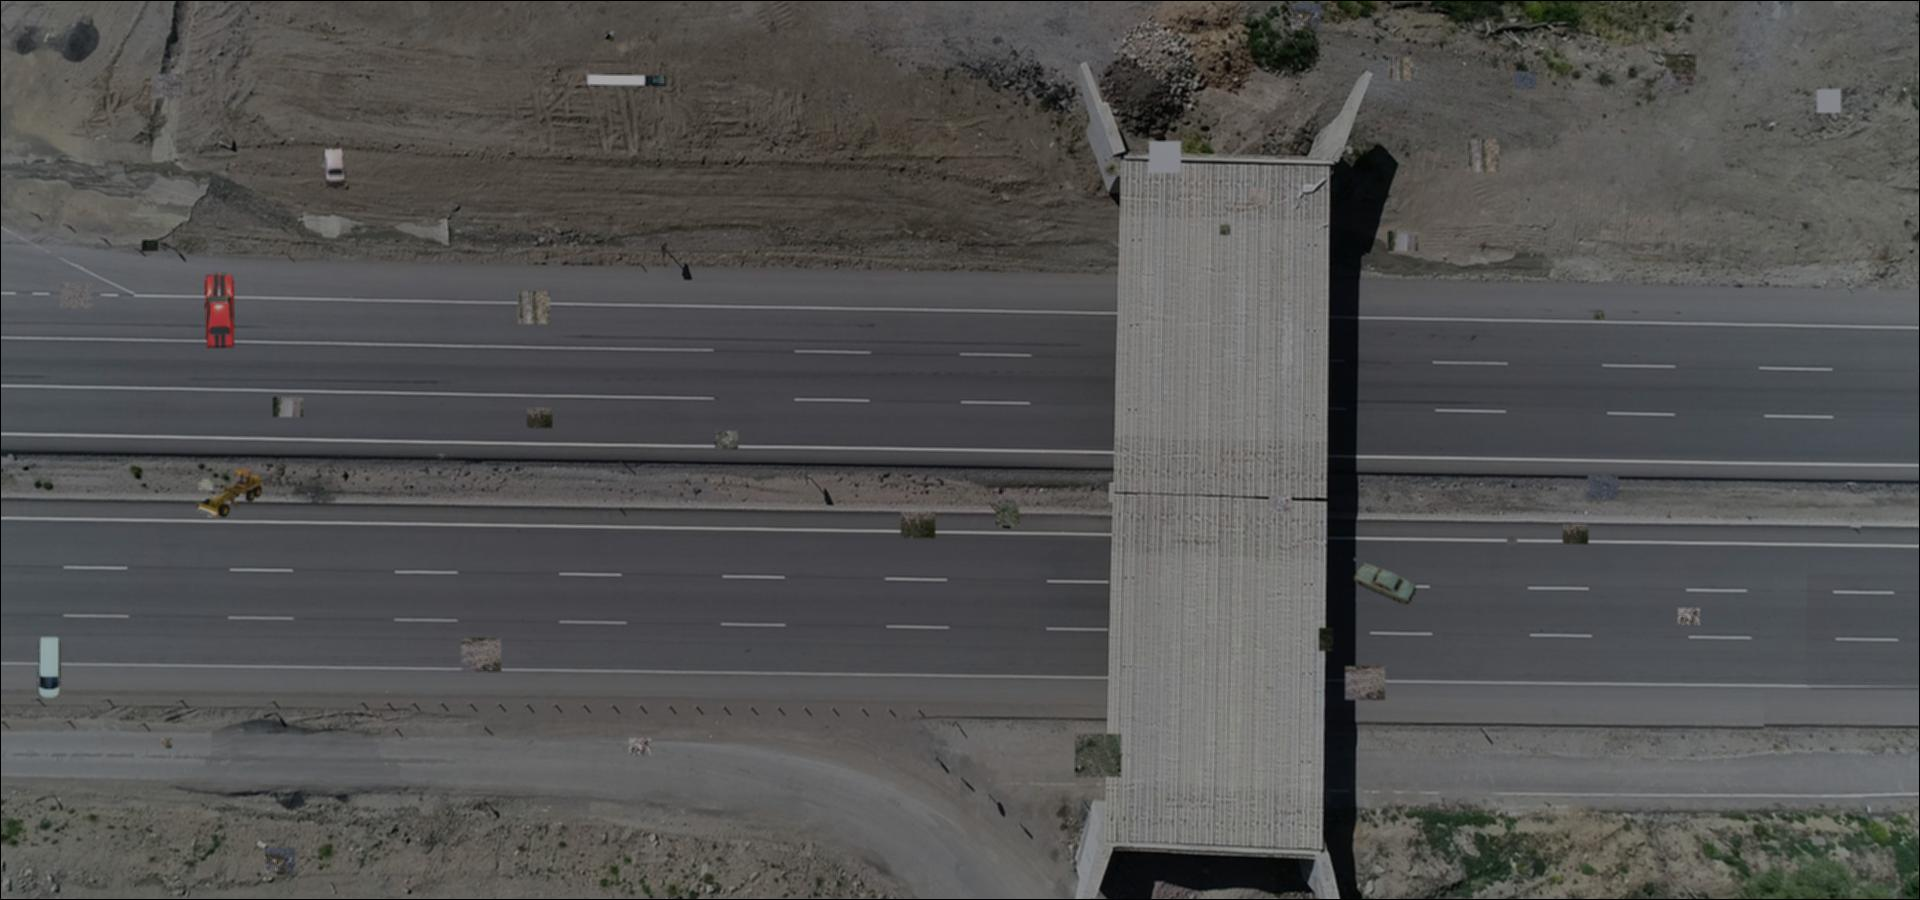arac: (195, 467, 268, 520), (1352, 560, 1417, 605), (202, 271, 238, 350), (36, 636, 65, 700), (587, 72, 667, 88), (321, 147, 349, 189)
